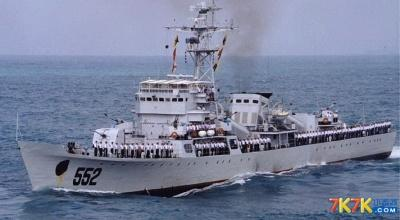warship: (16, 1, 400, 195)
